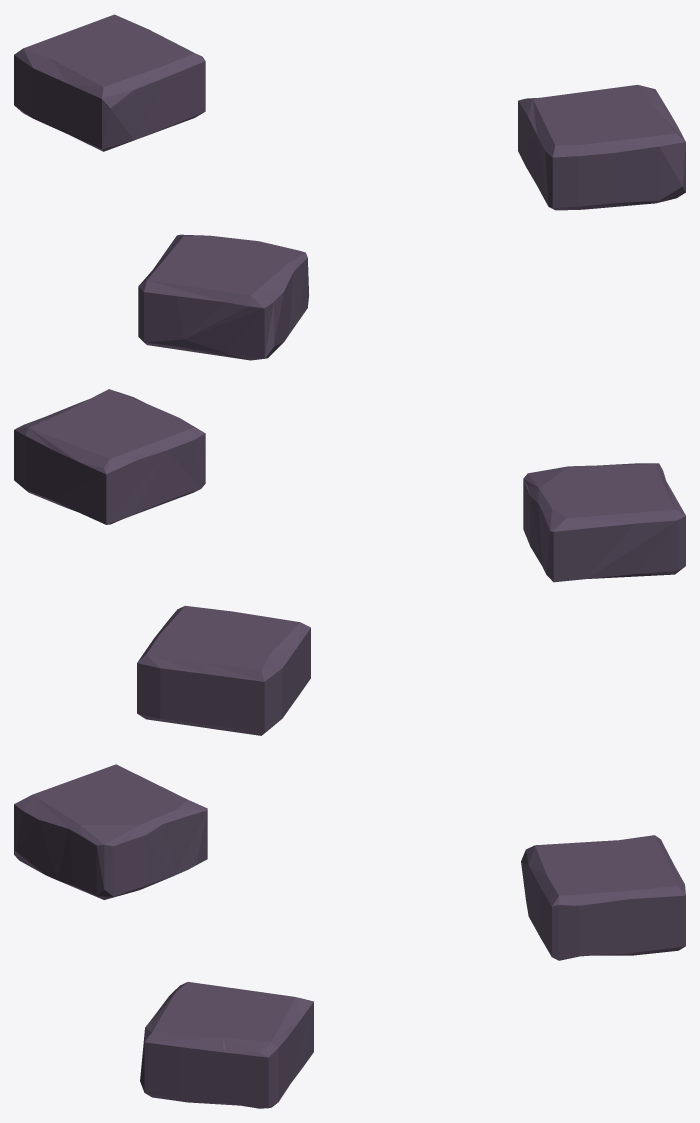
Rendered from bellstone_feet.glb.
3 views of the same model, one above another, from view 1: azimuth 30°, elevation 25°; view 2: azimuth 150°, elevation 25°; view 3: azimuth 270°, elevation 25° (orthographic).
Parts seen in each view (by area): view 1: bellstone_feet; view 2: bellstone_feet; view 3: bellstone_feet.
Boxes of the visible parts, x1,y1,x2,y2 form: bellstone_feet: [14, 14, 685, 360]; bellstone_feet: [14, 389, 685, 735]; bellstone_feet: [14, 764, 685, 1108].
Bounding box in the file's own units: 0.5724 × 0.06 × 0.5615.
